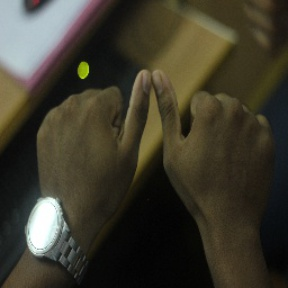A: (80, 61, 223, 196)
